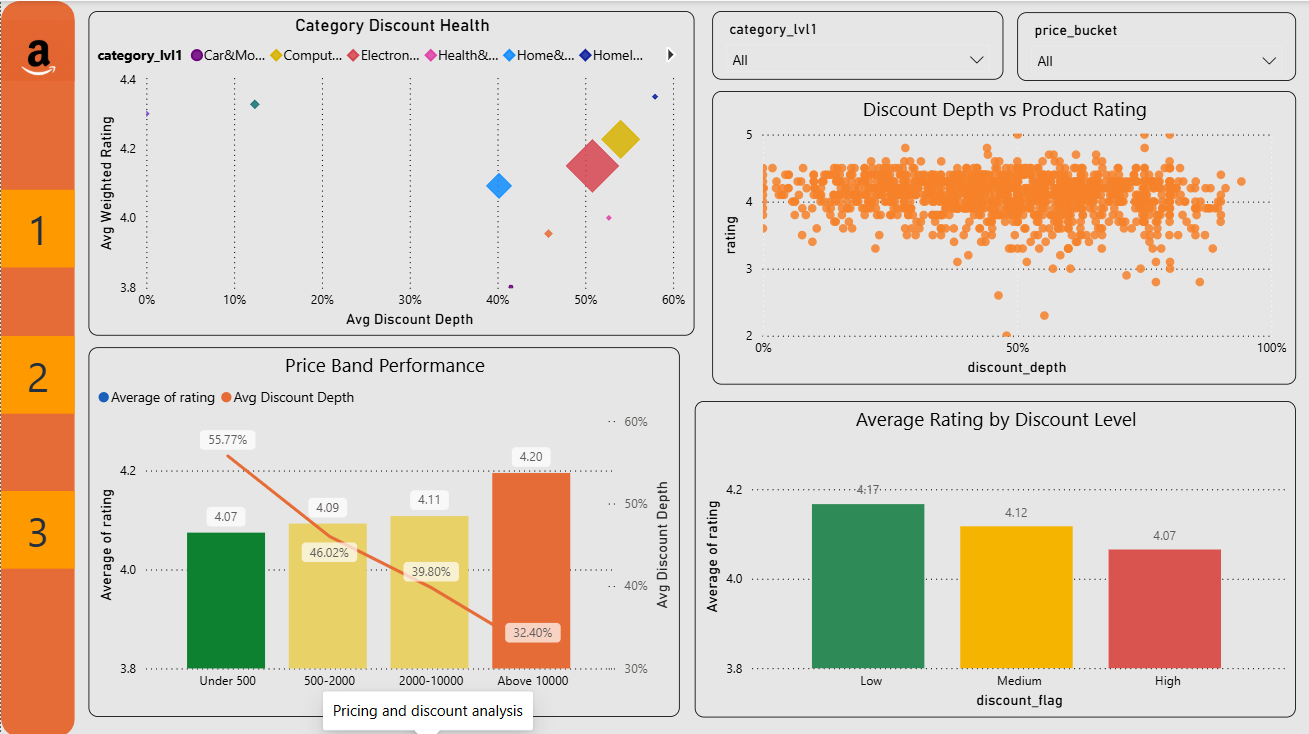

Layout of this report page (visuals, bound fields, positions):
{"tool":"powerbi","page":{"name":"Pricing and discount analysis","canvas":[1280,720],"ordinal":1},"visuals":[{"type":"scatterChart","title":"Discount Depth vs Product Rating","fields":{"X":["amazon cleaned.discount_depth"],"Y":["amazon cleaned.rating"]},"box":[695.8,88,571.1,287.4],"z":0},{"type":"clusteredColumnChart","title":"Average Rating by Discount Level","fields":{"Y":["Avg(amazon cleaned.rating)"],"Category":["amazon cleaned.discount_flag"]},"box":[678.7,391.3,588.2,309.4],"z":1000},{"type":"lineClusteredColumnComboChart","title":"Price Band Performance","fields":{"Y":["Avg(amazon cleaned.rating)"],"Y2":["amazon cleaned.Avg Discount Depth"],"Category":["amazon cleaned.price_bucket"]},"box":[85.6,338.7,578.4,362],"z":2000},{"type":"scatterChart","title":"Category Discount Health","fields":{"X":["amazon cleaned.Avg Discount Depth"],"Y":["amazon cleaned.Avg Weighted Rating"],"Size":["Sum(amazon cleaned.rating_count)"],"Series":["amazon cleaned.category_lvl1"]},"box":[85.6,9.8,593.1,317.9],"z":3000},{"type":"slicer","fields":{"Values":["amazon cleaned.category_lvl1"]},"box":[695.8,9.8,284.9,67.3],"z":4000},{"type":"slicer","fields":{"Values":["amazon cleaned.price_bucket"]},"box":[994.2,11,272.7,67.3],"z":5000},{"type":"shape","box":[0,0,72.4,720.2],"z":6000},{"type":"image","box":[0,0,72.1,96.6],"z":7000},{"type":"shape","box":[0,184.6,72.4,76],"z":8000},{"type":"shape","box":[0,328.2,72.4,76],"z":9000},{"type":"shape","box":[0,479,72.4,76],"z":10000}]}

Visuals, with their boxes in screenshot pixels (x1, y1, x2, y2), scaled from the page's 1280x720 canvas onto the 1309x734 screenshot:
"Discount Depth vs Product Rating" scatterChart: <bbox>712, 90, 1296, 383</bbox>
"Average Rating by Discount Level" clusteredColumnChart: <bbox>694, 399, 1296, 714</bbox>
"Price Band Performance" lineClusteredColumnComboChart: <bbox>88, 345, 679, 714</bbox>
"Category Discount Health" scatterChart: <bbox>88, 10, 694, 334</bbox>
slicer - amazon cleaned.category_lvl1: <bbox>712, 10, 1003, 79</bbox>
slicer - amazon cleaned.price_bucket: <bbox>1017, 11, 1296, 80</bbox>
shape: <bbox>0, 0, 74, 733</bbox>
image: <bbox>0, 0, 74, 98</bbox>
shape: <bbox>0, 188, 74, 266</bbox>
shape: <bbox>0, 335, 74, 412</bbox>
shape: <bbox>0, 488, 74, 566</bbox>
